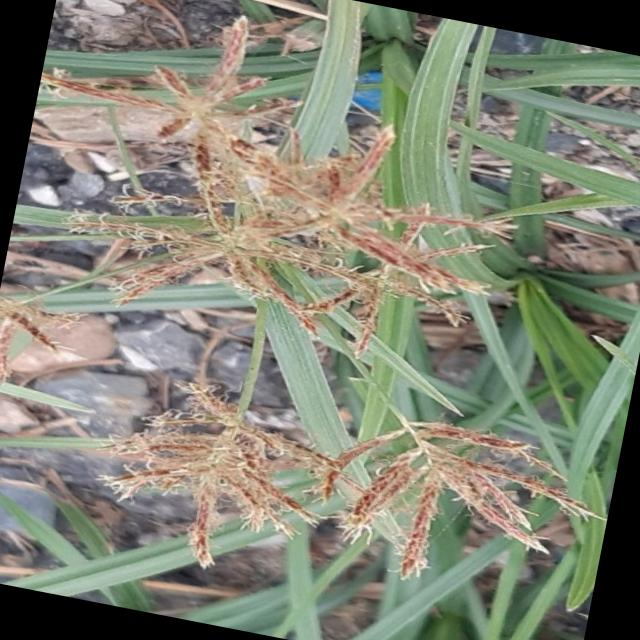cyperus: (62, 18, 555, 388), (99, 340, 597, 626)
